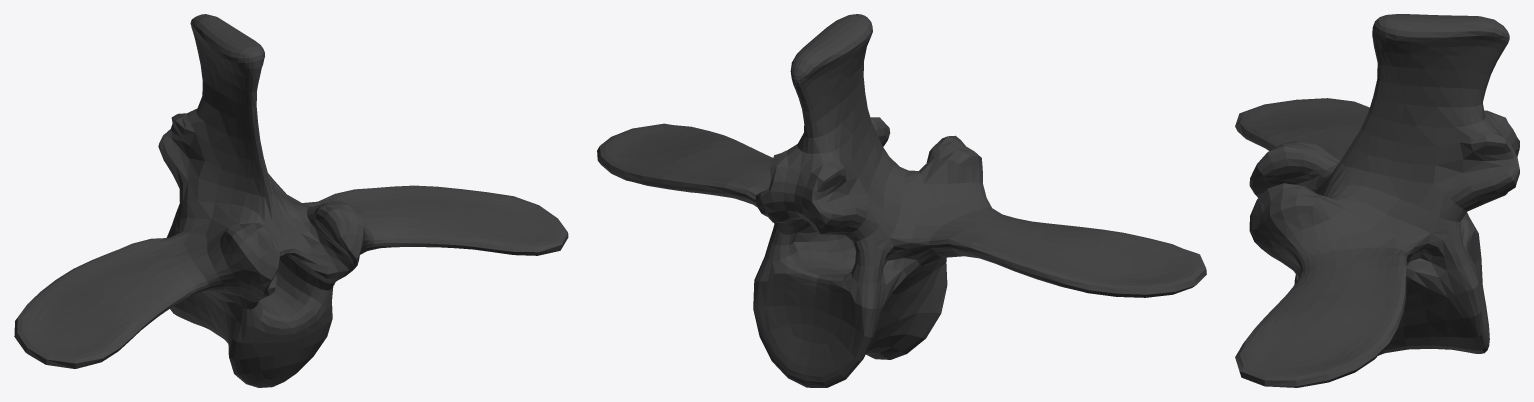
3 views of the same model, side by side, from view 1: azimuth 30°, elevation 25°; view 2: azimuth 150°, elevation 25°; view 3: azimuth 270°, elevation 25° (orthographic). The views are drawn at different scales.
Visible parts, largest first — view 1: b_L2_LO; view 2: b_L2_LO; view 3: b_L2_LO.
Part boxes in pixels (x1,y1,x2,y2): b_L2_LO: (14, 14, 568, 387); b_L2_LO: (597, 14, 1206, 387); b_L2_LO: (1235, 14, 1519, 387).
Bounding box in the file's own units: 0.0022 × 0.00128 × 0.000936.
1 material, 1 textured.
